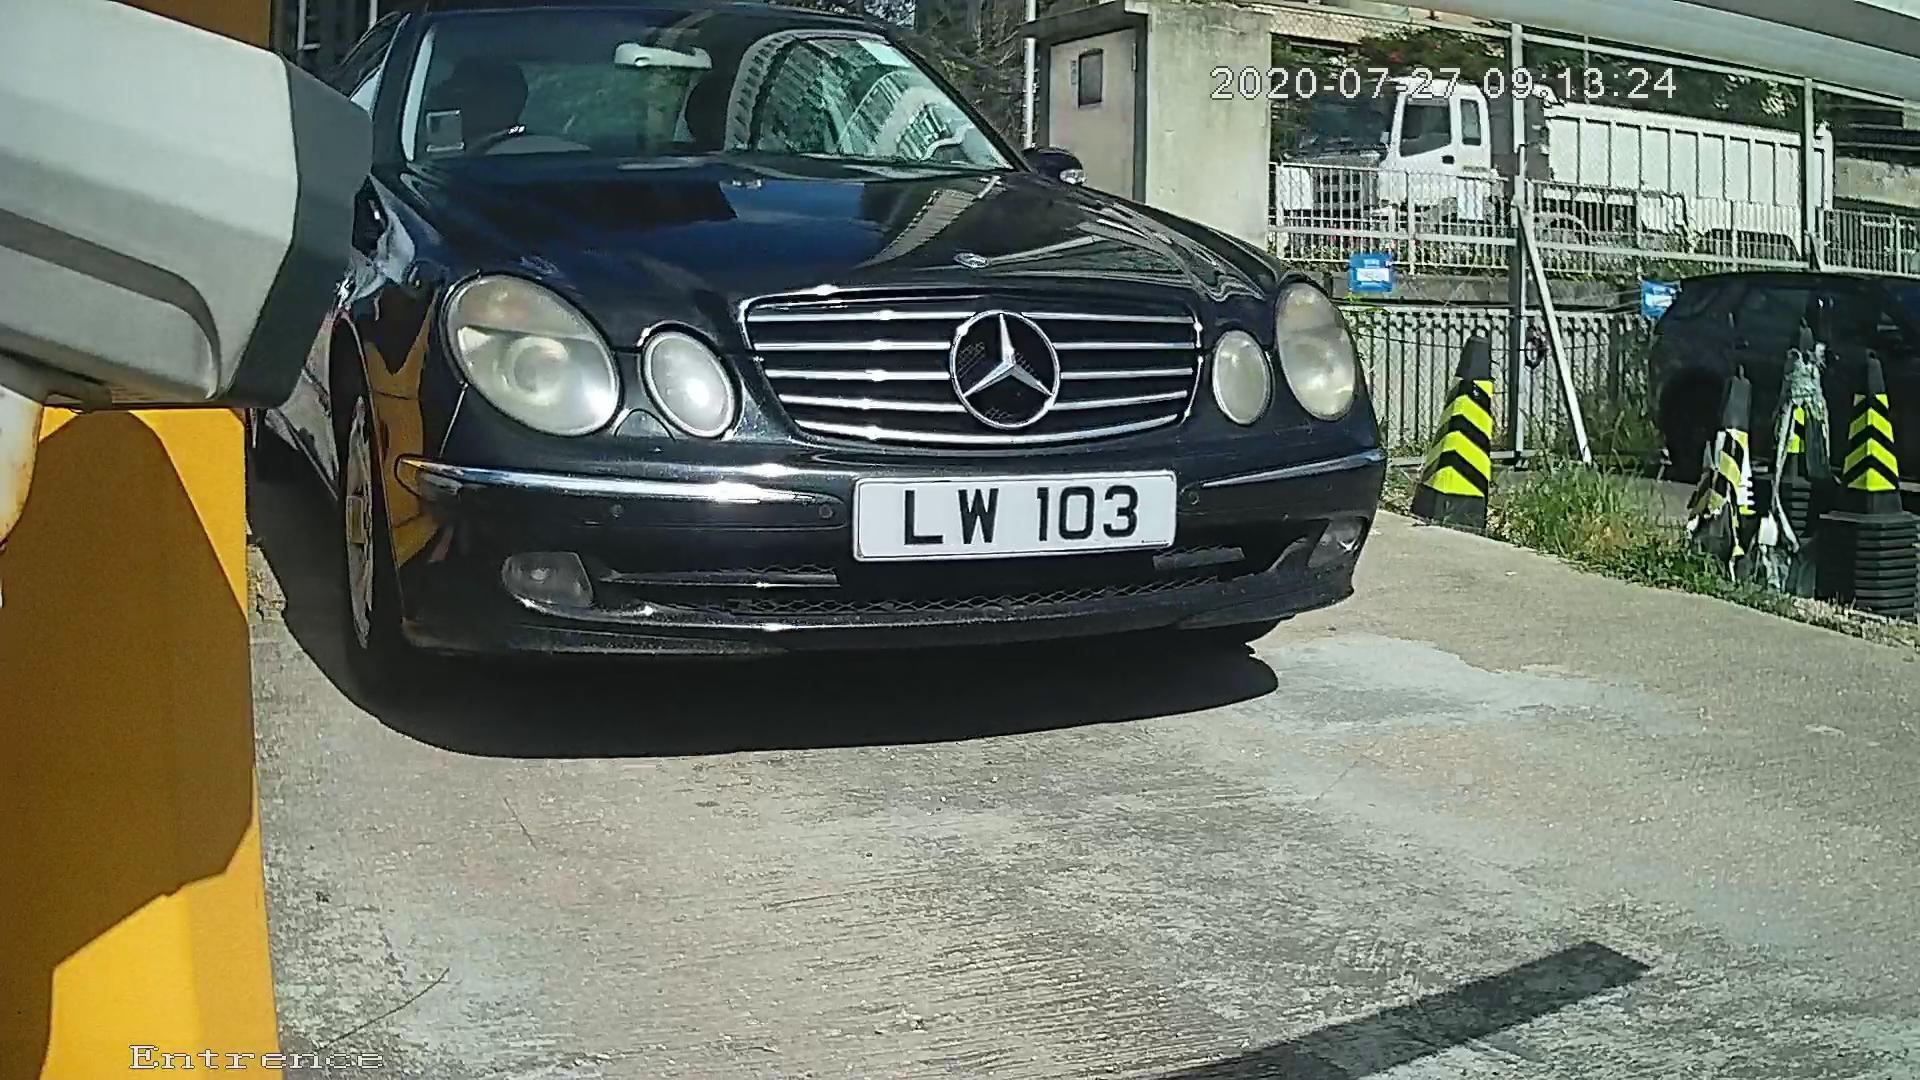Car: (112, 20, 1441, 743)
License Plate: (823, 454, 1183, 565)
